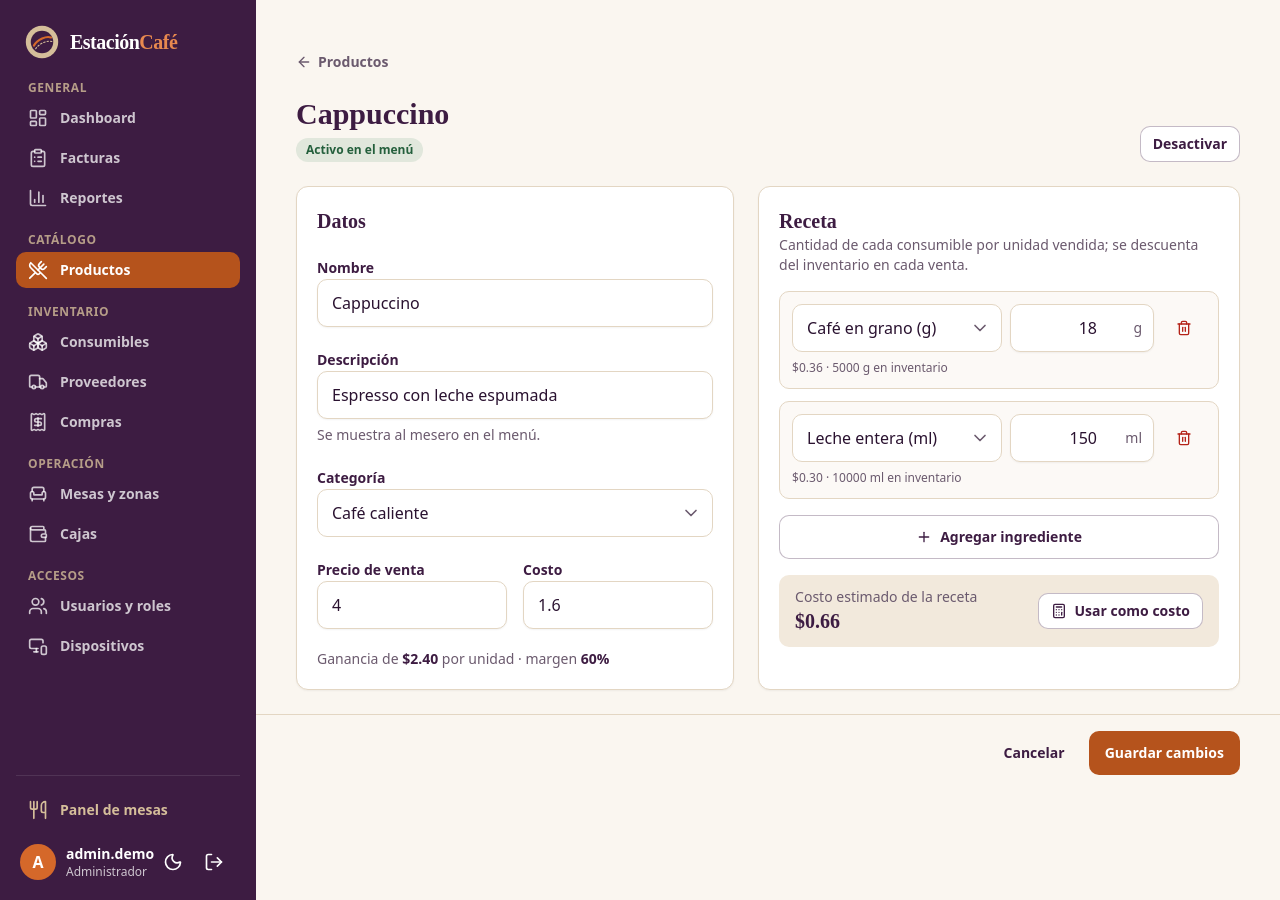
Test: Catálogo del admin › al editar solo envía los cambios de la receta
Replace the text in the number field named "Cantidad del ingrediente 2" with "120" at coordinates (1082, 438), box [1010,414,1154,462]
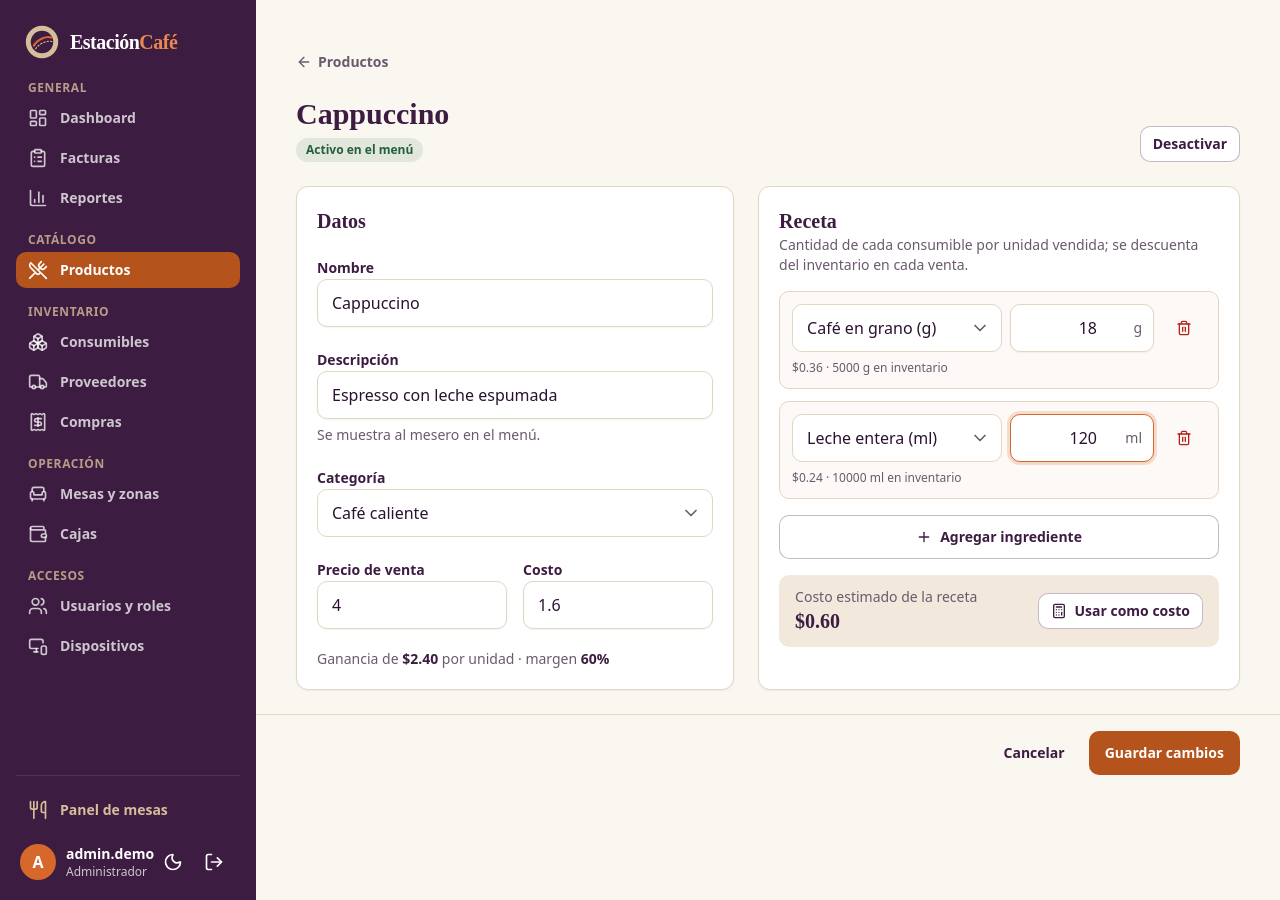
Click the button named "Quitar ingrediente 1".
click(1184, 328)  # box [1162,306,1206,350]
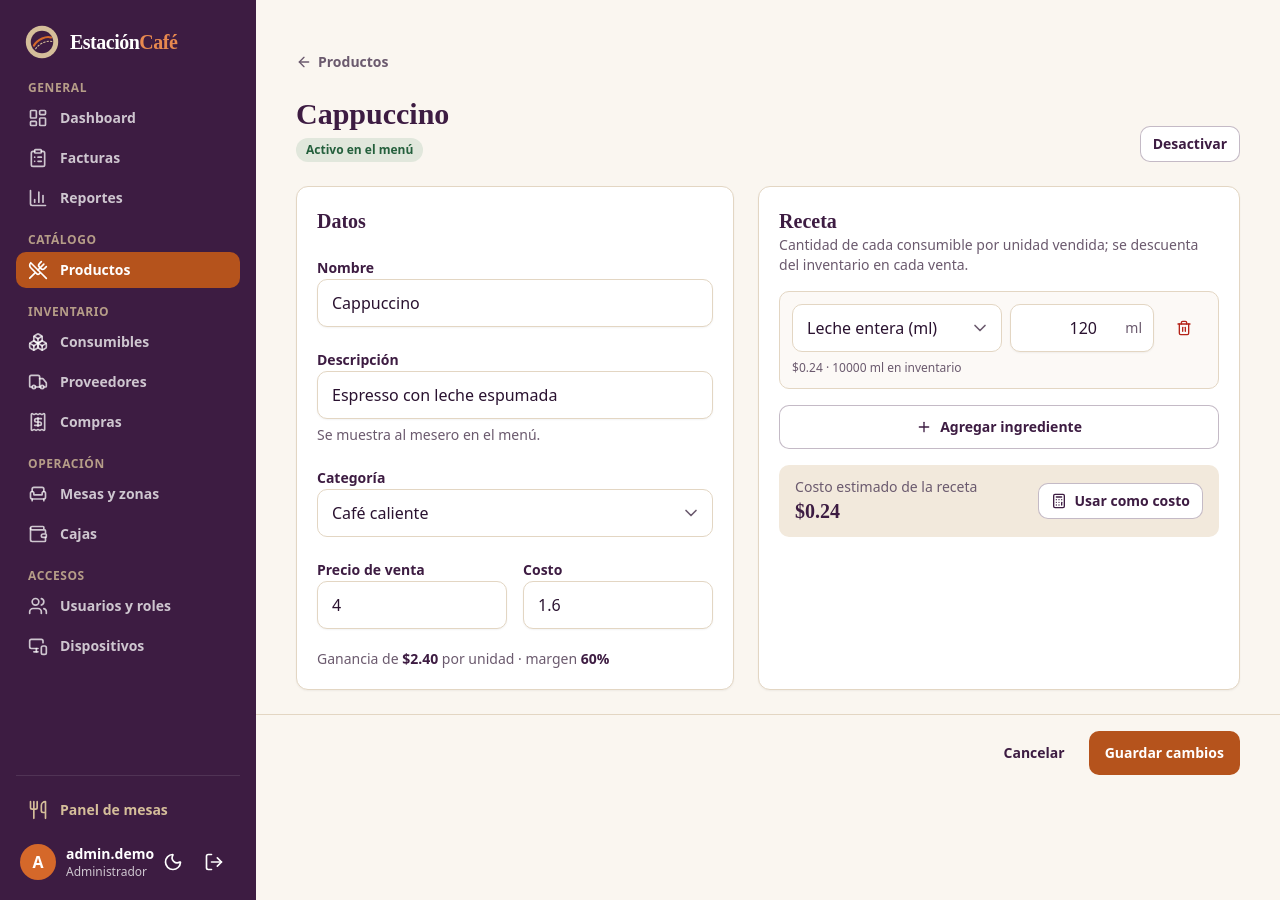
Click the button "Guardar cambios".
click(1164, 753)  # box [1089,731,1240,775]
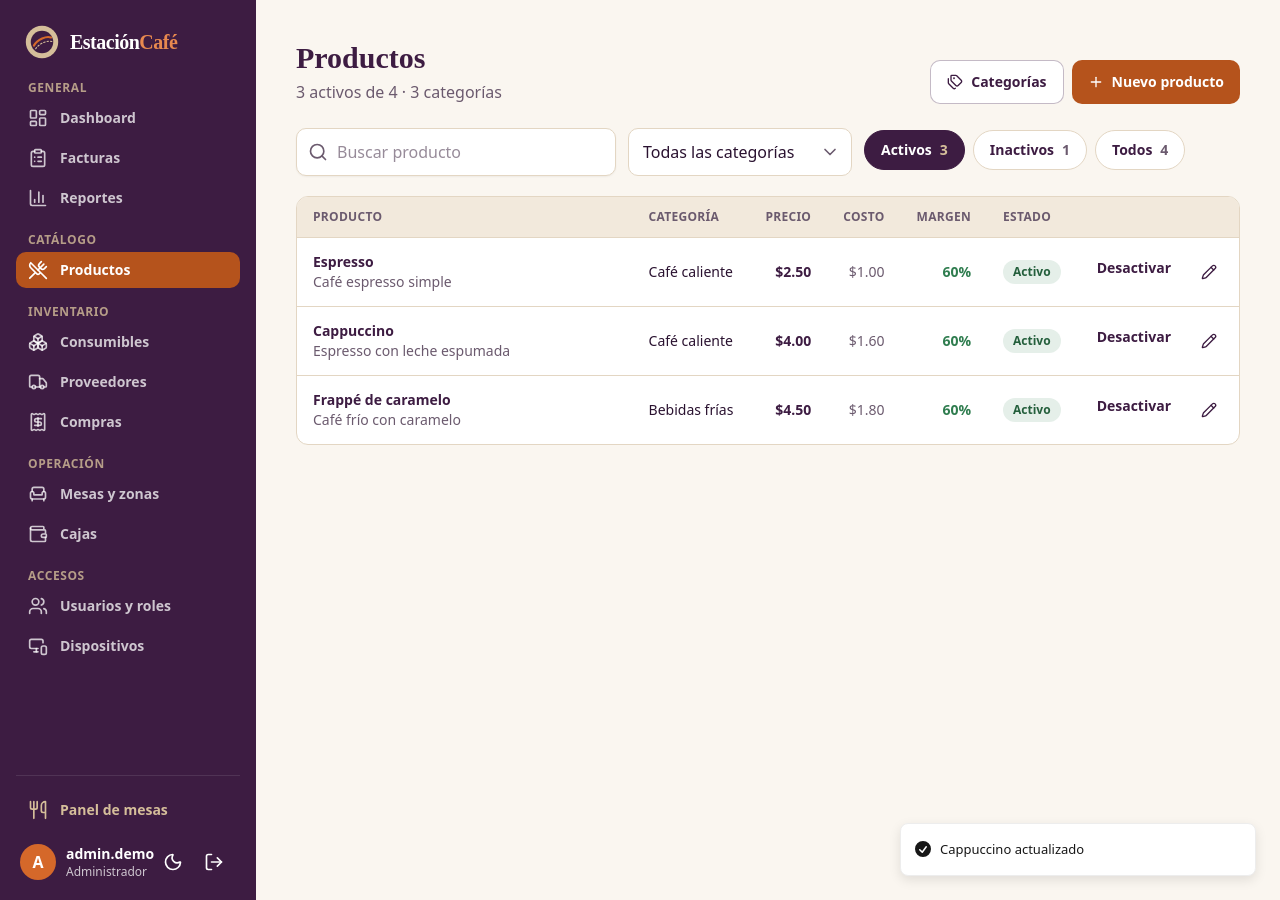
Expected: the text "Cappuccino actualizado" is shown, [940,840,1084,859]
